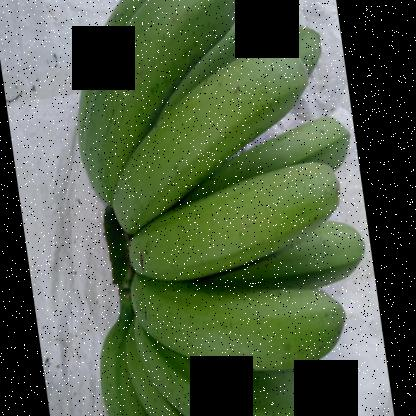unripe: (80, 0, 256, 198), (123, 35, 301, 217), (124, 147, 348, 282), (122, 266, 378, 366)
